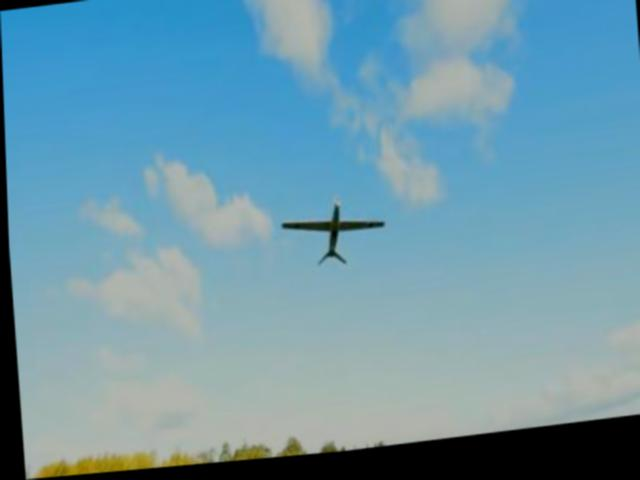uav: (276, 197, 388, 279)
